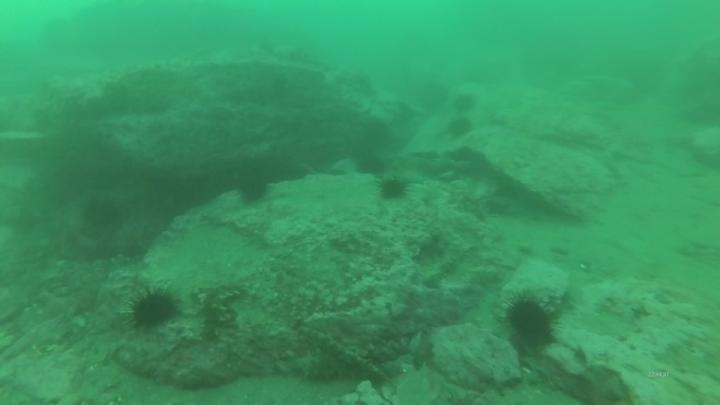echinus: (503, 292, 558, 351), (126, 284, 182, 332), (80, 194, 125, 232), (234, 169, 273, 206), (413, 78, 451, 114), (376, 174, 410, 203), (354, 152, 389, 179), (444, 115, 475, 142), (451, 90, 479, 115)
holothurian: (196, 279, 245, 345), (274, 348, 352, 385)
